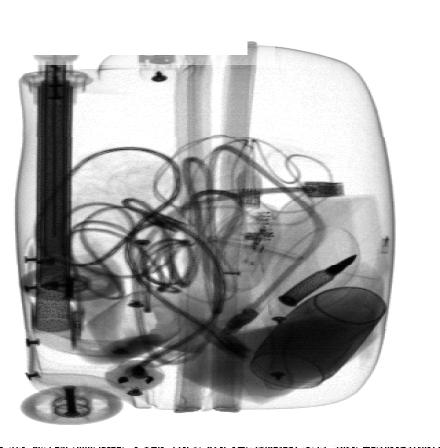Bullet: (278, 253, 357, 307)
